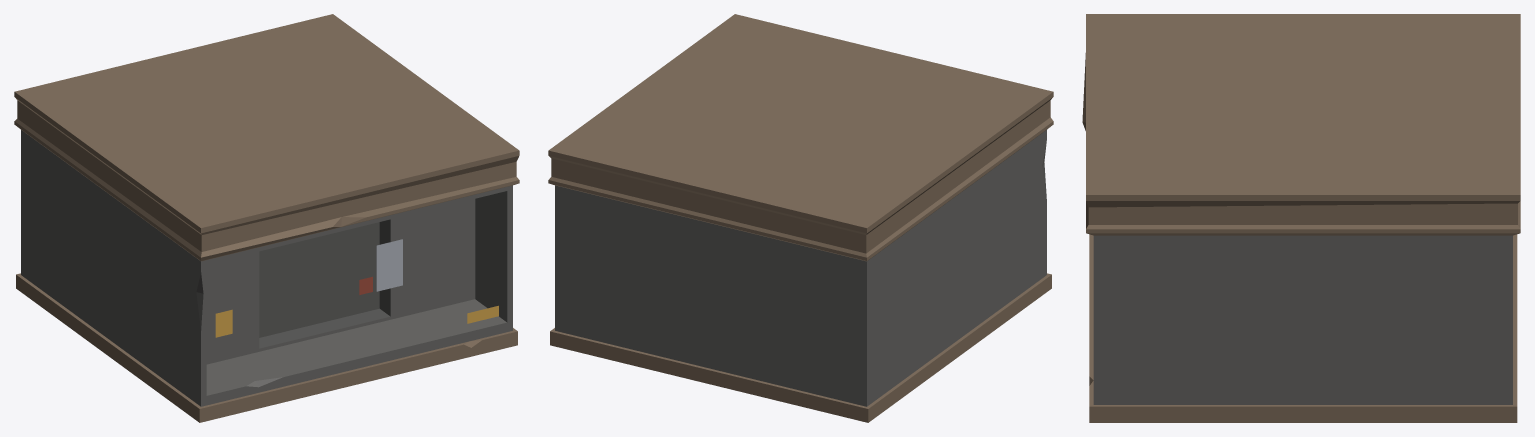
Rendered from shop_1.glb.
The picture shows the model from 3 angles, left to right: view 1: azimuth 30°, elevation 25°; view 2: azimuth 150°, elevation 25°; view 3: azimuth 270°, elevation 25°; orthographic projection. The views are drawn at different scales.
Visible parts, largest first — view 1: SM_Bld_Shop_05; view 2: SM_Bld_Shop_05; view 3: SM_Bld_Shop_05.
Part boxes in pixels (x1,y1,x2,y2): SM_Bld_Shop_05: (14,14,519,422); SM_Bld_Shop_05: (548,14,1053,422); SM_Bld_Shop_05: (1082,14,1520,422).
Bounding box in the file's own units: 5.11 × 3 × 5.22.
1 material, 1 textured.
